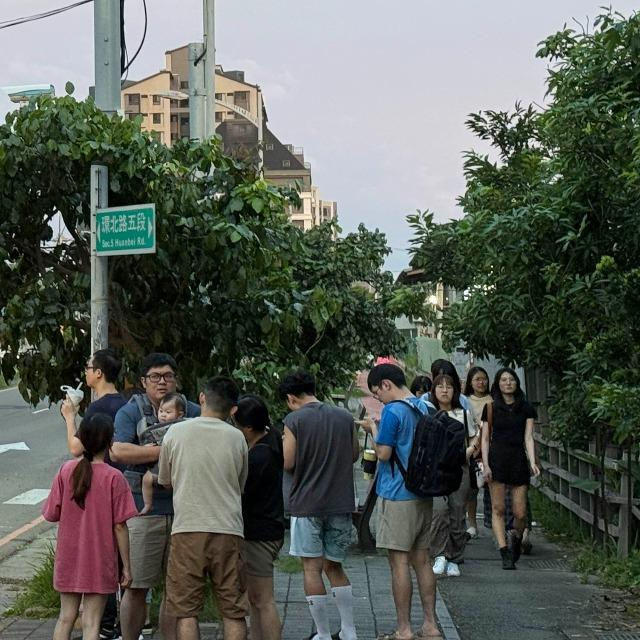NoHelmet: (135, 351, 181, 401), (83, 348, 124, 391), (366, 363, 409, 400)
NoVest: (167, 417, 246, 530), (285, 402, 364, 511)
